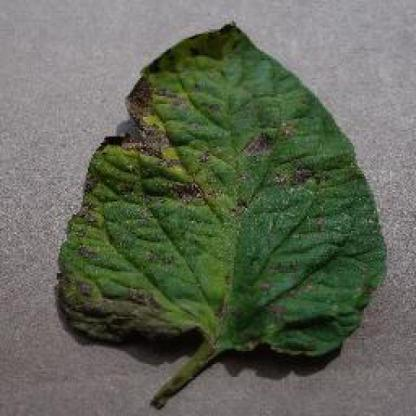Tomato_Blight: (56, 21, 388, 357)
